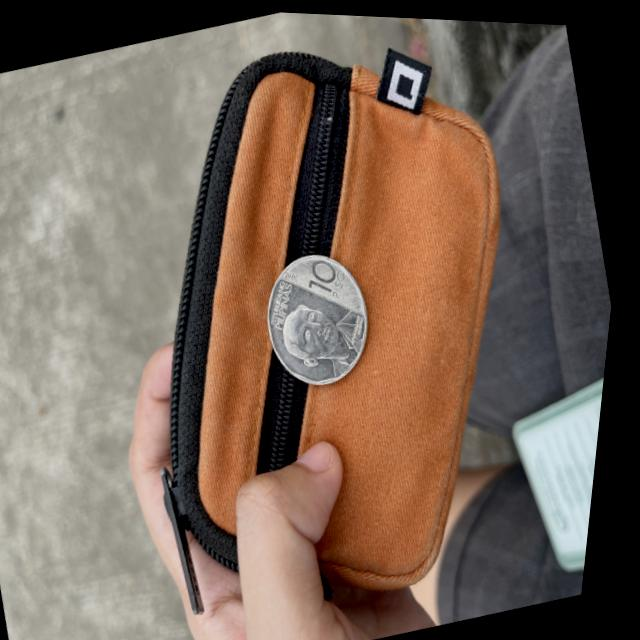10_New_Front: (307, 258, 358, 304)
